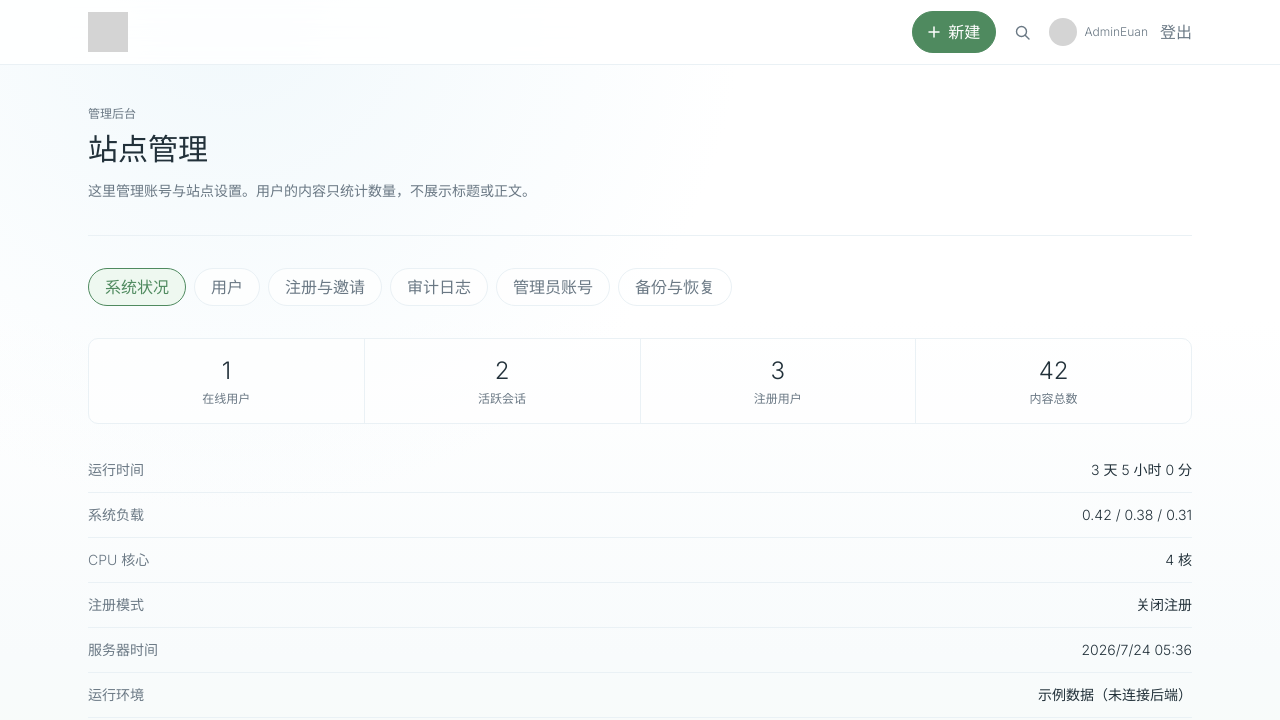
Scenario: admin console › generates a single-use invite code
Step 1. Click the button "注册与邀请" → (325, 287), box [268,268,382,306]
(page scrolled)
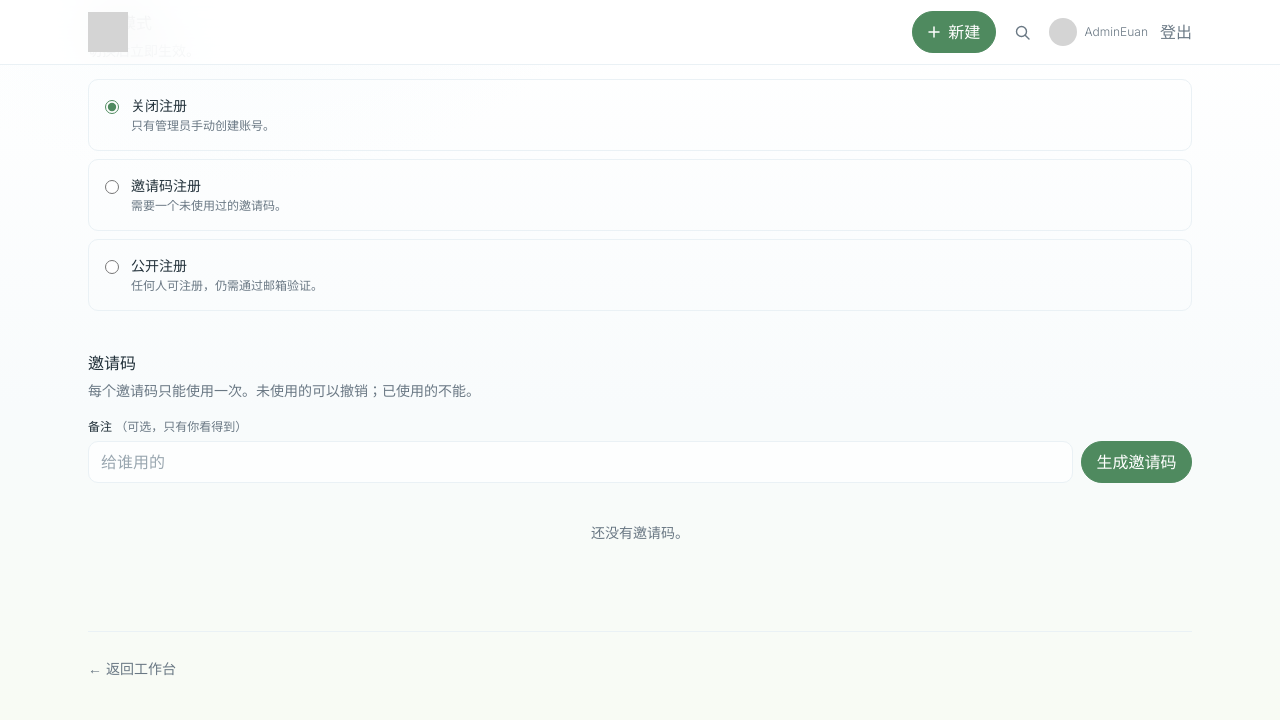
Now the text "还没有邀请码。" is shown, box [591,524,689,541]
Step 2. Type "给朋友" into the field labelled "备注 （可选，只有你看得到）" → (581, 462), box [88,441,1073,483]
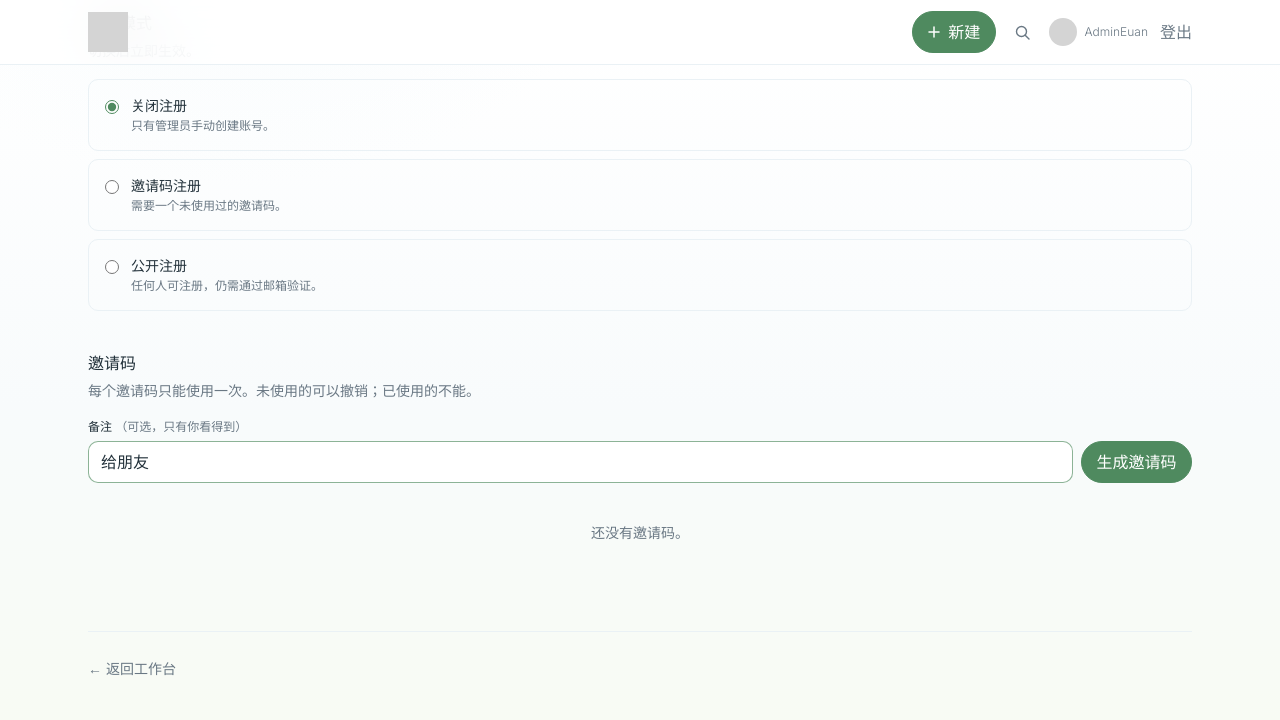
Step 3. Click the button "生成邀请码" → (1137, 462), box [1081,441,1192,483]
(page scrolled)
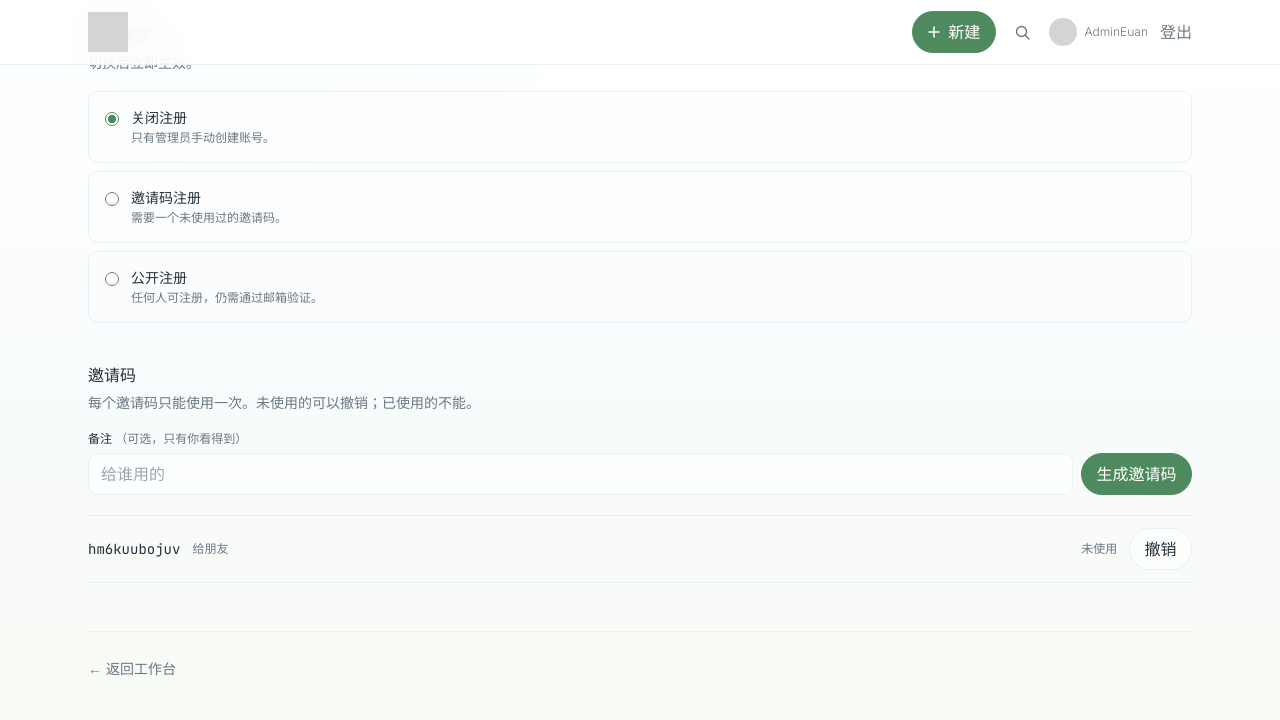
Now the text "给朋友" is shown, box [192,541,228,557]
Now the text "未使用" is shown, box [1081,541,1117,557]
